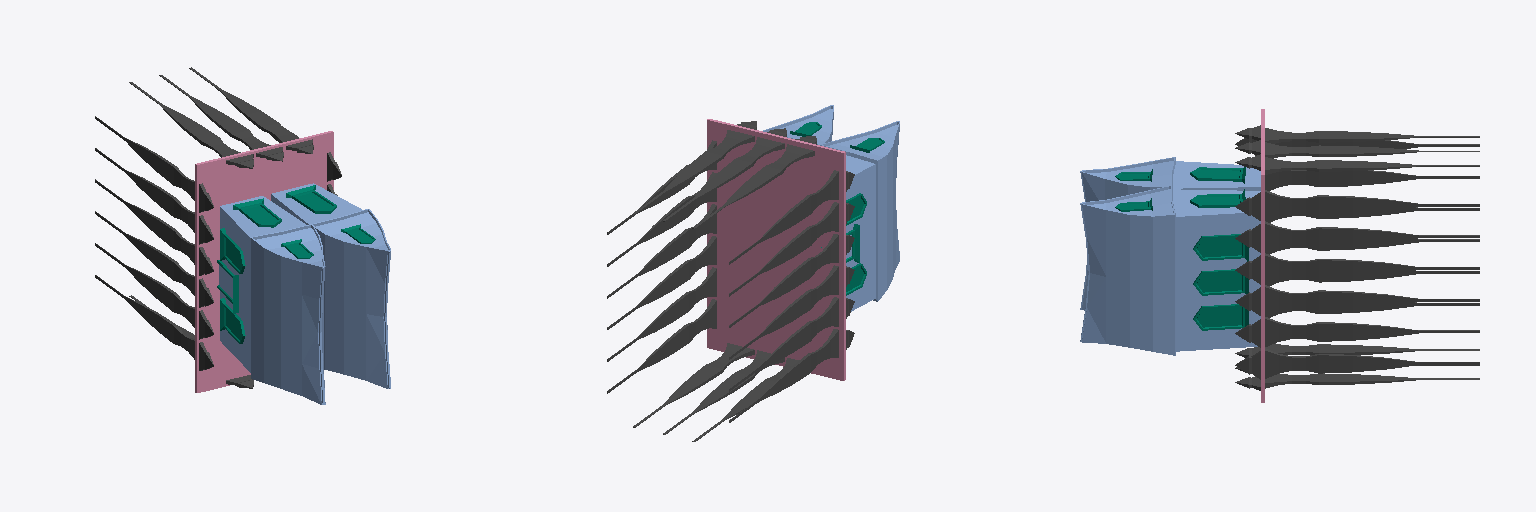
The model's file is watervilla_blender.obj.
The picture shows the model from 3 angles: view 1: azimuth 30°, elevation 25°; view 2: azimuth 150°, elevation 25°; view 3: azimuth 270°, elevation 25°; orthographic projection.
Visible parts, largest first — view 1: wtr_house2, wtr_house1, wtr_platform, wtr_pillar12, wtr_pillar09, wtr_pillar13, wtr_pillar10, wtr_pillar14, wtr_pillar11, wtr_pillar01, wtr_pillar00, wtr_pillar02; view 2: wtr_platform, wtr_house2, wtr_pillar13, wtr_pillar09, wtr_pillar12, wtr_pillar10, wtr_pillar14, wtr_pillar03, wtr_pillar11, wtr_pillar05, wtr_pillar04, wtr_pillar01 (+9 smaller); view 3: wtr_house1, wtr_house2, wtr_pillar03, wtr_pillar06, wtr_pillar07, wtr_pillar05, wtr_pillar04, wtr_pillar08, wtr_pillar10, wtr_pillar02, wtr_pillar00, wtr_pillar17 (+11 smaller).
Boxes of the visible parts, box(x1,y1,x2,y2) form: wtr_house2: box(220, 196, 325, 404); wtr_house1: box(271, 183, 390, 388); wtr_platform: box(195, 131, 333, 392); wtr_pillar12: box(95, 211, 194, 295); wtr_pillar09: box(95, 116, 194, 200); wtr_pillar13: box(95, 243, 194, 327); wtr_pillar10: box(95, 148, 194, 232); wtr_pillar14: box(95, 275, 194, 359); wtr_pillar11: box(95, 179, 194, 264); wtr_pillar01: box(159, 75, 270, 149); wtr_pillar00: box(129, 82, 240, 157); wtr_pillar02: box(189, 67, 298, 142); wtr_platform: box(707, 119, 845, 380); wtr_house2: box(820, 121, 899, 311); wtr_pillar13: box(729, 297, 838, 391); wtr_pillar09: box(729, 170, 838, 264); wtr_pillar12: box(729, 265, 838, 359); wtr_pillar10: box(729, 202, 838, 296); wtr_pillar14: box(729, 329, 838, 422); wtr_pillar03: box(607, 299, 716, 393); wtr_pillar11: box(729, 234, 838, 327); wtr_pillar05: box(607, 236, 716, 329); wtr_pillar04: box(607, 267, 716, 361); wtr_pillar01: box(663, 137, 784, 221); wtr_house1: box(1082, 185, 1260, 355); wtr_house2: box(1082, 157, 1260, 310); wtr_pillar03: box(1265, 348, 1479, 378); wtr_pillar06: box(1265, 253, 1479, 283); wtr_pillar07: box(1265, 221, 1479, 251); wtr_pillar05: box(1265, 285, 1479, 315); wtr_pillar04: box(1265, 317, 1479, 346); wtr_pillar08: box(1265, 190, 1479, 220); wtr_pillar10: box(1265, 170, 1479, 190); wtr_pillar02: box(1265, 157, 1479, 174); wtr_pillar00: box(1265, 128, 1479, 143); wtr_pillar17: box(1265, 373, 1479, 388).
Bounding box in the file's own units: 49.75 × 79.43 × 126.